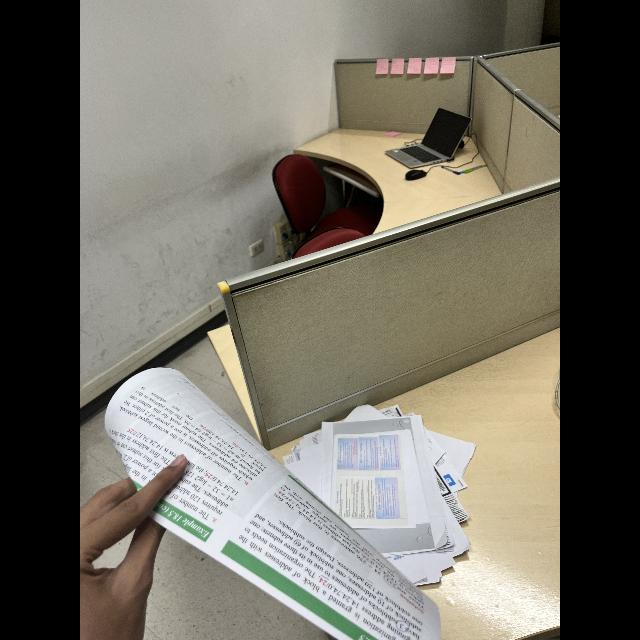reuseable_paper: (101, 366, 443, 640), (281, 397, 484, 587)
